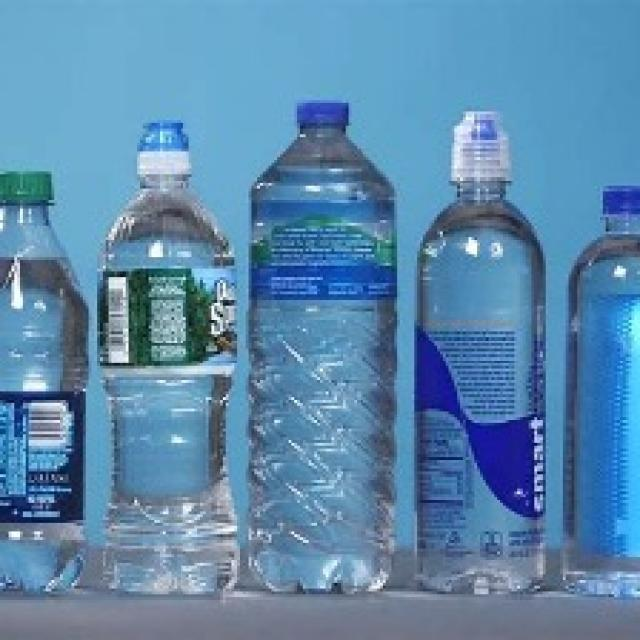plastic_bag: (1, 171, 93, 599)
plastic_bottle: (237, 87, 409, 594), (409, 110, 565, 596), (90, 133, 239, 599), (559, 188, 640, 597)
